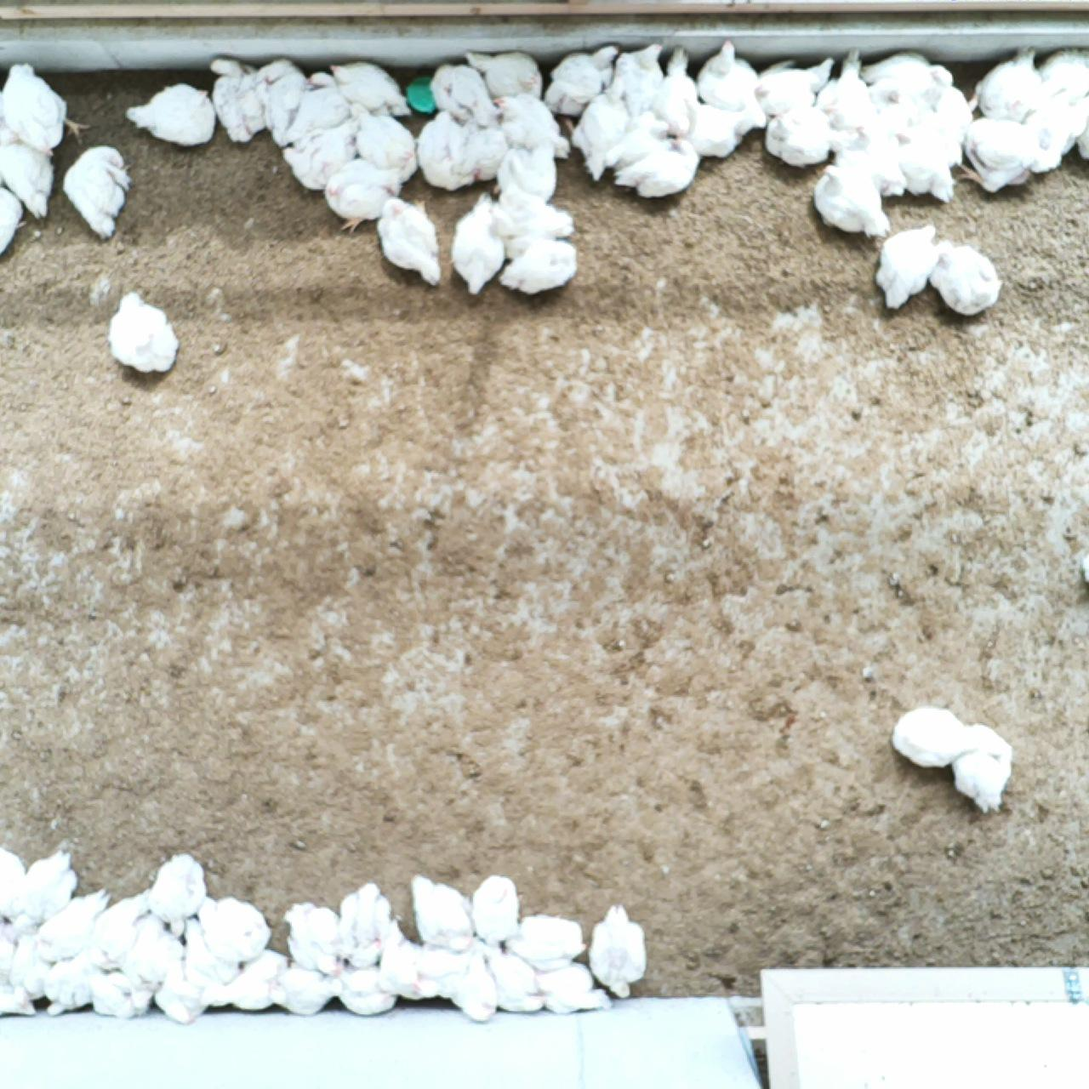chicken: (0, 58, 94, 156), (57, 136, 134, 246), (99, 284, 185, 379), (943, 720, 1019, 825), (560, 81, 634, 187), (352, 93, 425, 200), (953, 115, 1039, 201), (924, 233, 1007, 319), (273, 66, 352, 155), (746, 49, 835, 127), (869, 219, 938, 318), (890, 100, 953, 207), (808, 162, 892, 240), (538, 37, 620, 116), (489, 88, 574, 164), (188, 888, 273, 963), (436, 932, 505, 1024), (375, 191, 440, 288), (0, 122, 63, 220), (585, 902, 648, 1000), (492, 190, 580, 260), (449, 191, 506, 299), (283, 112, 357, 195), (145, 848, 211, 941), (328, 157, 407, 234), (689, 38, 758, 126), (615, 134, 706, 200), (124, 82, 215, 147), (666, 99, 766, 158), (415, 103, 476, 198), (205, 54, 269, 144), (178, 917, 239, 1011), (36, 883, 105, 966), (326, 58, 412, 123), (976, 43, 1044, 125), (497, 237, 586, 299), (761, 101, 840, 170), (891, 703, 972, 770), (377, 926, 447, 1003), (460, 43, 545, 106), (647, 40, 701, 139), (867, 52, 954, 113), (258, 54, 315, 147), (605, 40, 670, 121), (425, 64, 498, 136), (284, 899, 349, 979), (211, 946, 287, 1014), (505, 909, 584, 974), (15, 849, 79, 929), (492, 141, 564, 212), (834, 118, 900, 195), (532, 962, 615, 1023), (1020, 90, 1079, 175), (264, 961, 350, 1019), (339, 877, 397, 963), (410, 874, 472, 953), (811, 47, 869, 131), (320, 961, 402, 1019), (1032, 41, 1089, 123), (91, 889, 155, 961), (845, 71, 913, 138), (443, 119, 512, 185), (482, 943, 545, 1015), (126, 909, 180, 991), (153, 944, 208, 1023), (600, 109, 673, 168), (47, 948, 103, 1018), (936, 76, 978, 169), (468, 874, 522, 945), (92, 963, 157, 1018), (7, 932, 58, 1000), (0, 181, 34, 254), (0, 840, 33, 910), (0, 971, 42, 1020), (0, 920, 23, 974), (1072, 97, 1089, 168)
